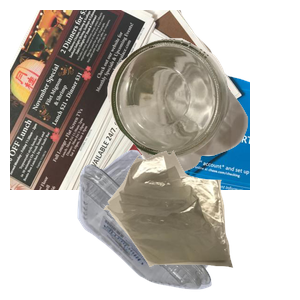glass: (105, 36, 300, 201)
paper: (10, 10, 250, 190)
plastic: (75, 147, 289, 300)
trash: (101, 148, 300, 300)
